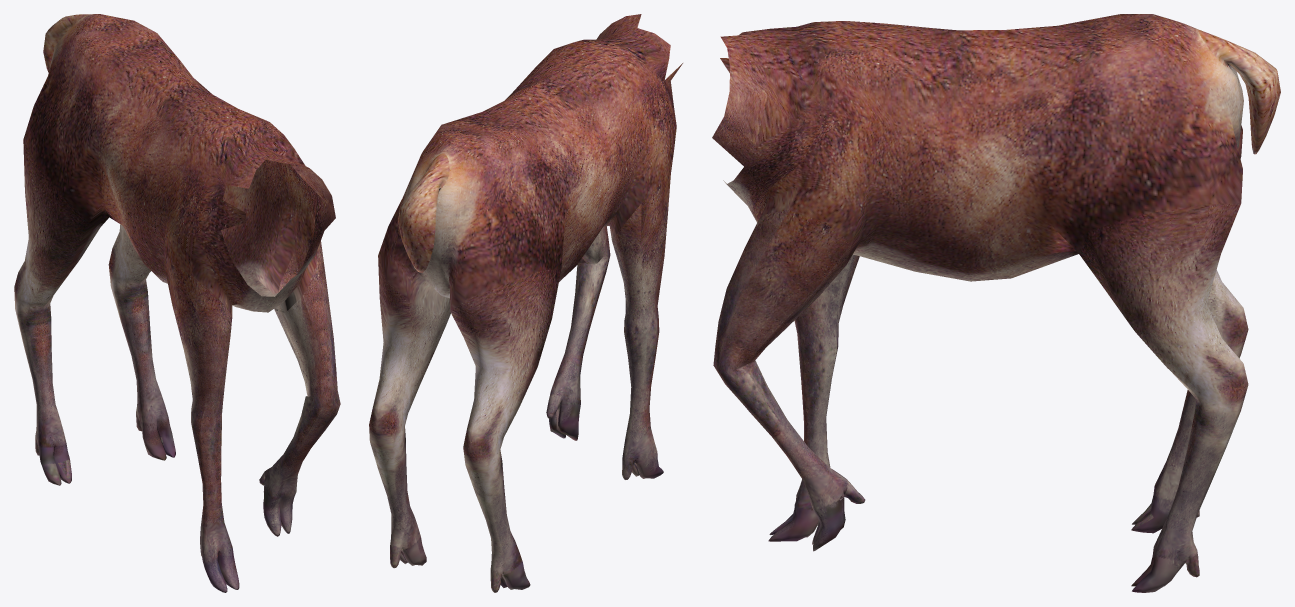
File: bebecuerpo1.obj
3 renders of one model, left to right at view 1: azimuth 30°, elevation 25°; view 2: azimuth 150°, elevation 25°; view 3: azimuth 270°, elevation 25°, orthographic. The views are drawn at different scales.
Parts seen in each view (by area): view 1: Body_body.005; view 2: Body_body.005; view 3: Body_body.005.
Part boxes in pixels (x1=…): Body_body.005: x1=14, y1=14, x2=340, y2=592; Body_body.005: x1=369, y1=14, x2=682, y2=592; Body_body.005: x1=712, y1=14, x2=1280, y2=592.
Size of the model in its own units: 0.9487 by 2.69 by 2.58.
